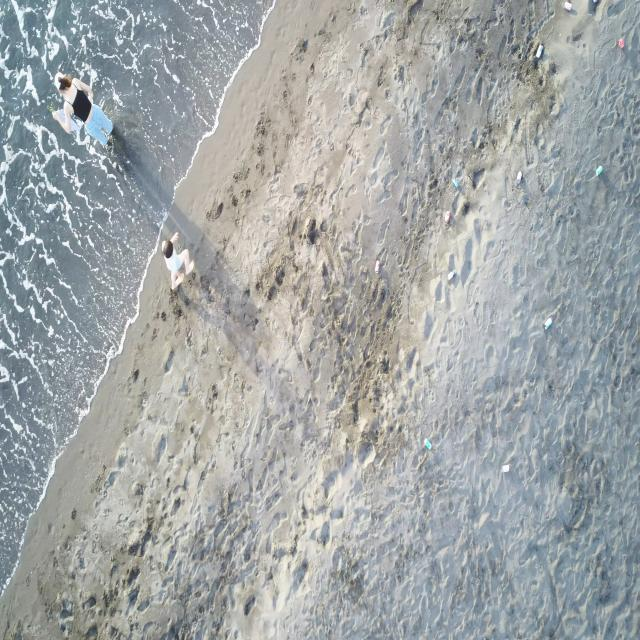tin-and-aluminum-cans: (536, 43, 544, 59), (594, 165, 603, 178), (544, 317, 552, 331), (424, 438, 433, 450), (448, 269, 457, 281), (563, 1, 572, 12), (616, 38, 624, 50), (444, 210, 451, 223), (516, 170, 522, 184), (501, 464, 510, 473), (375, 259, 380, 275), (452, 178, 458, 188)
